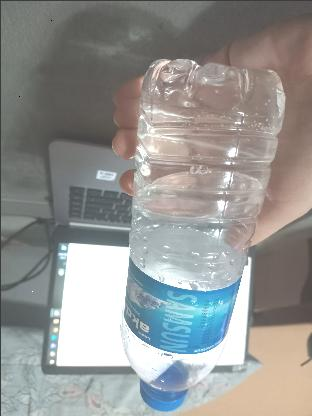Plastic Bottle: (120, 38, 282, 416)
